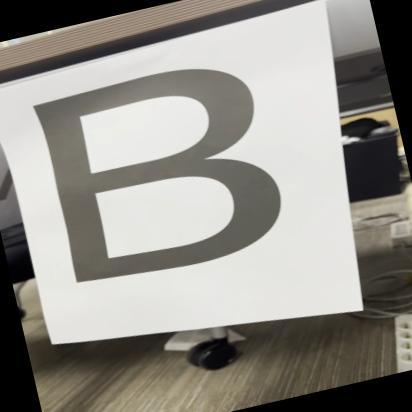seat: (14, 42, 314, 308)
